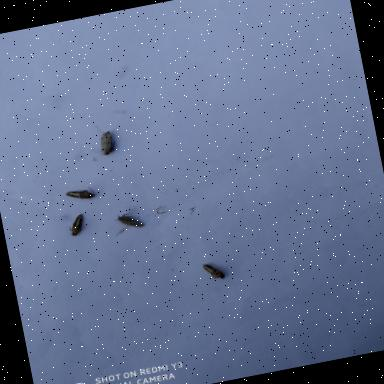pbw: (92, 128, 122, 160), (112, 208, 147, 234), (62, 210, 92, 240), (63, 183, 98, 206), (200, 258, 229, 284)
